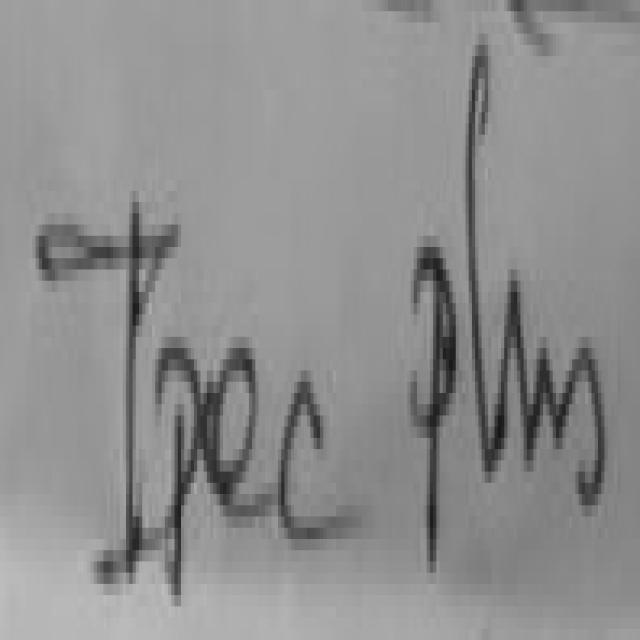I: (30, 116, 165, 614)
c: (276, 344, 357, 576)
e: (200, 305, 275, 551)
l: (464, 12, 507, 508)
p: (408, 196, 466, 604), (154, 340, 201, 604)
s: (558, 264, 615, 541)
u: (512, 270, 560, 488)
